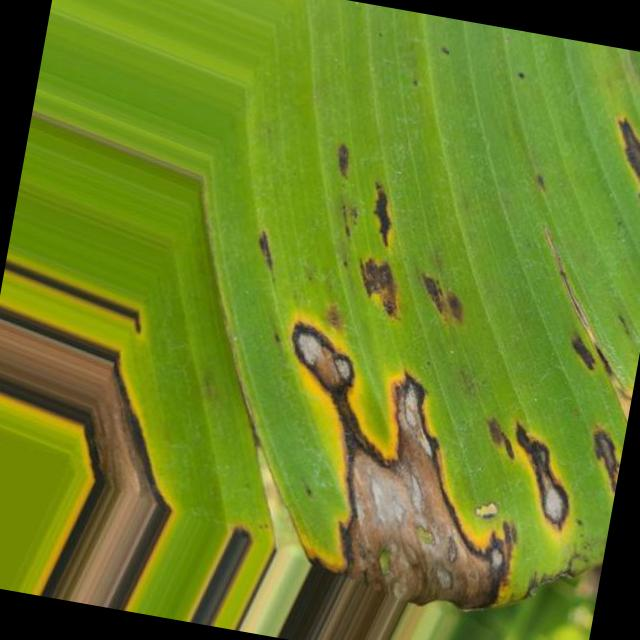Banana_Black_Sigatoka: (146, 163, 640, 640)
